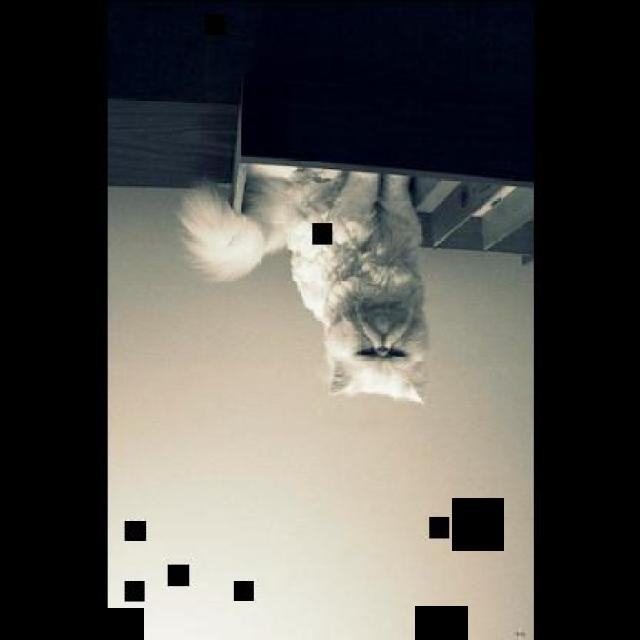unauthorized: (174, 162, 429, 404)
